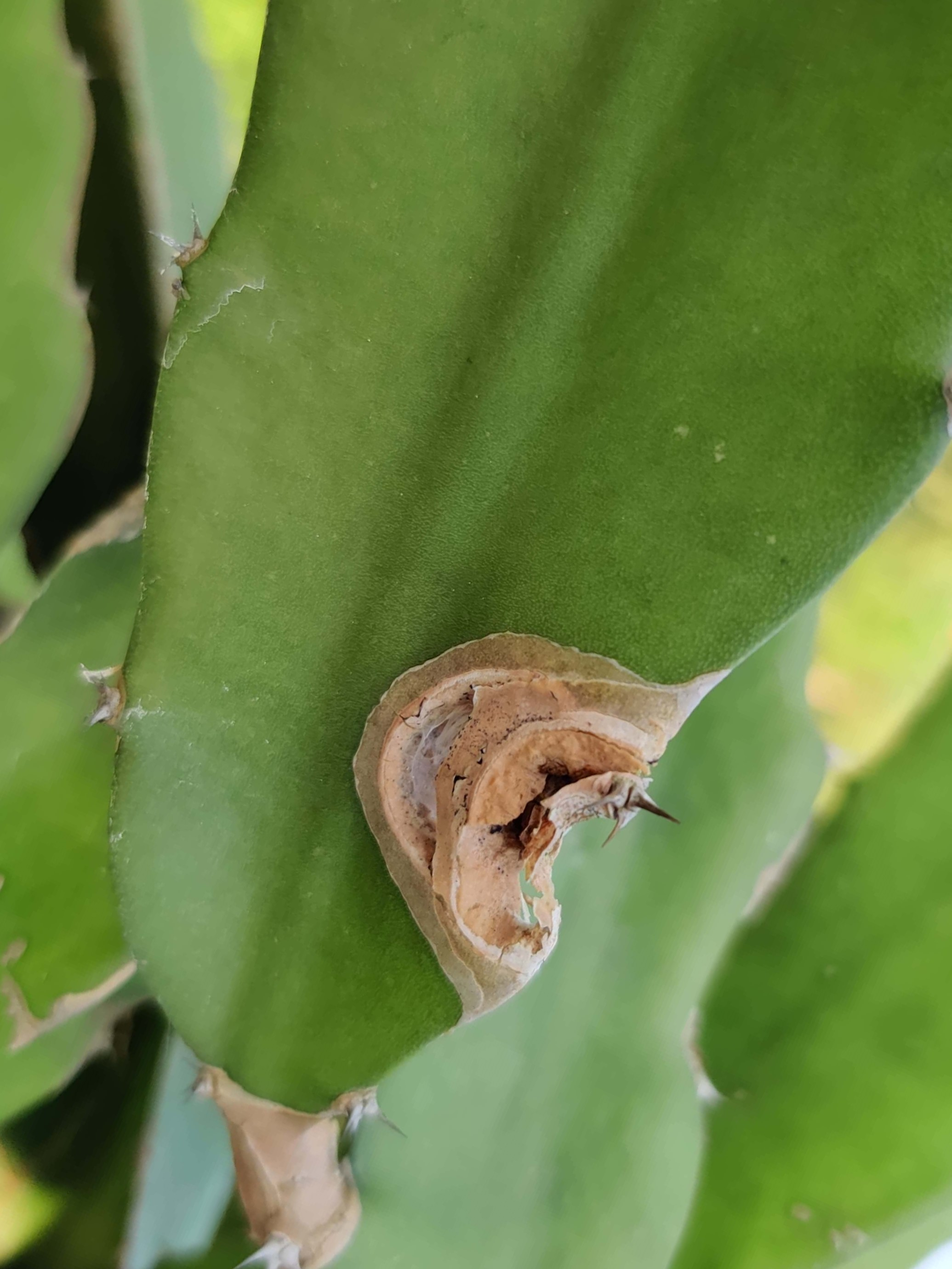stemcanker: (348, 629, 725, 1017)
